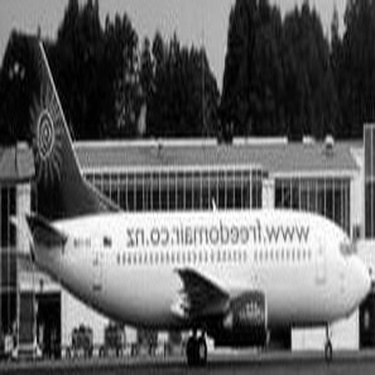airplane: (3, 6, 368, 371)
